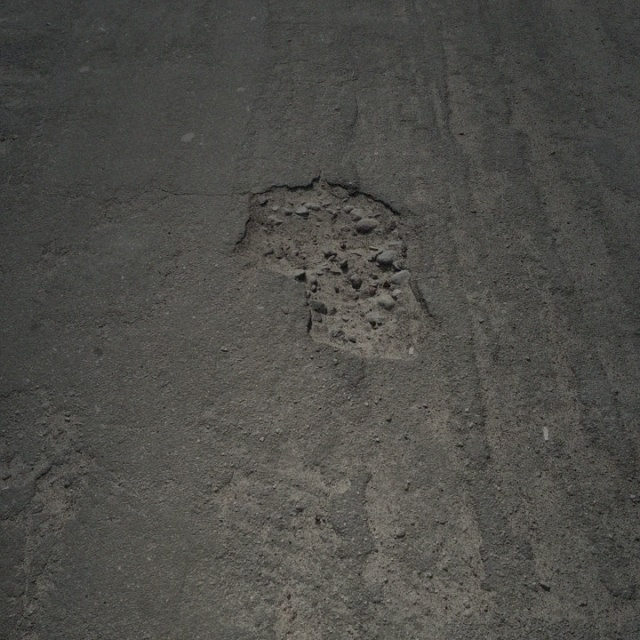pothole: (228, 173, 438, 367)
